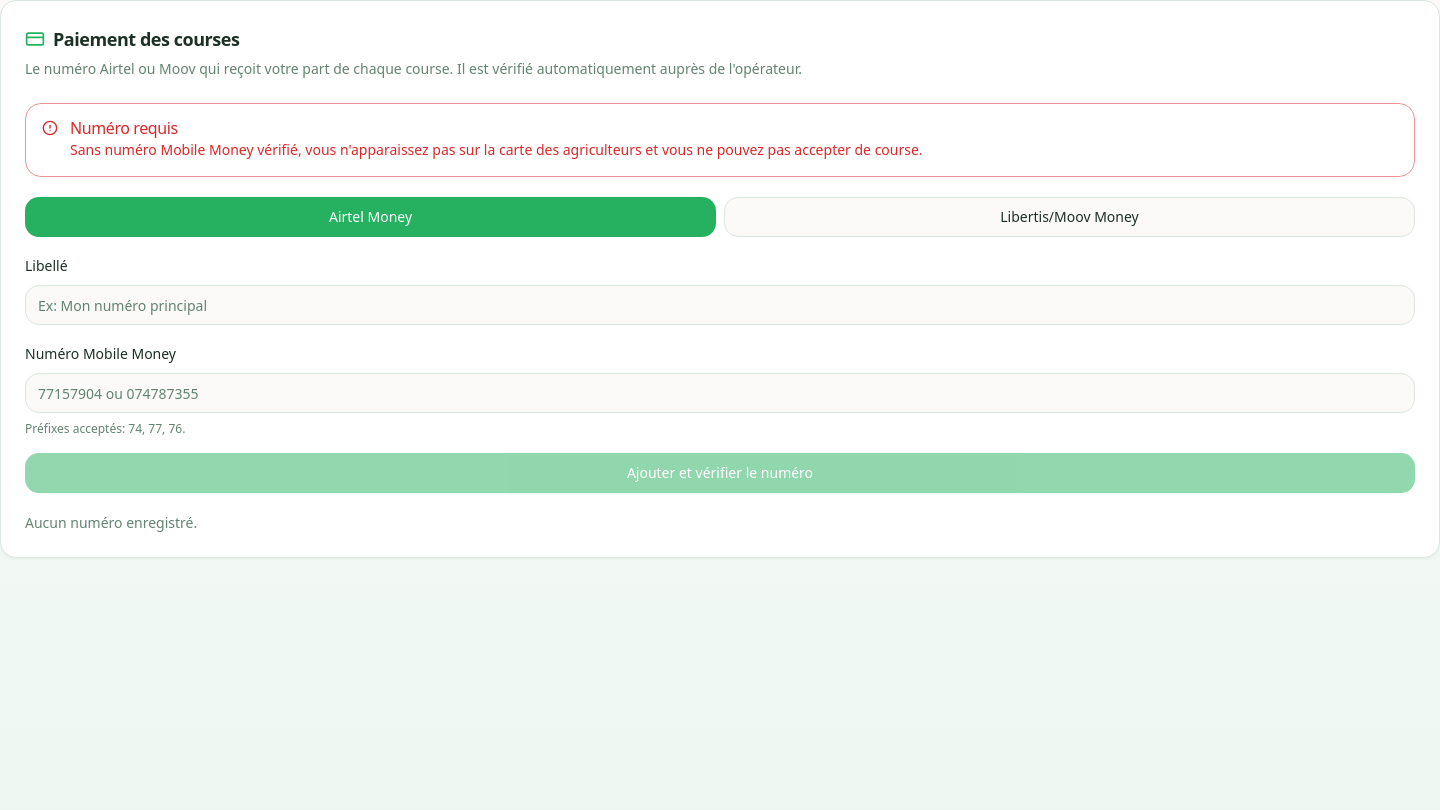
DriverPayoutAccounts › explains a number the operator could not verify
This screenshot has width=1440, height=810.
Expected: the heading "Numéro requis" is shown, x1=70 y1=117 x2=178 y2=139
Type "077123456" into the field labelled "Numéro Mobile Money" at (720, 393), box x1=25 y1=373 x2=1415 y2=413
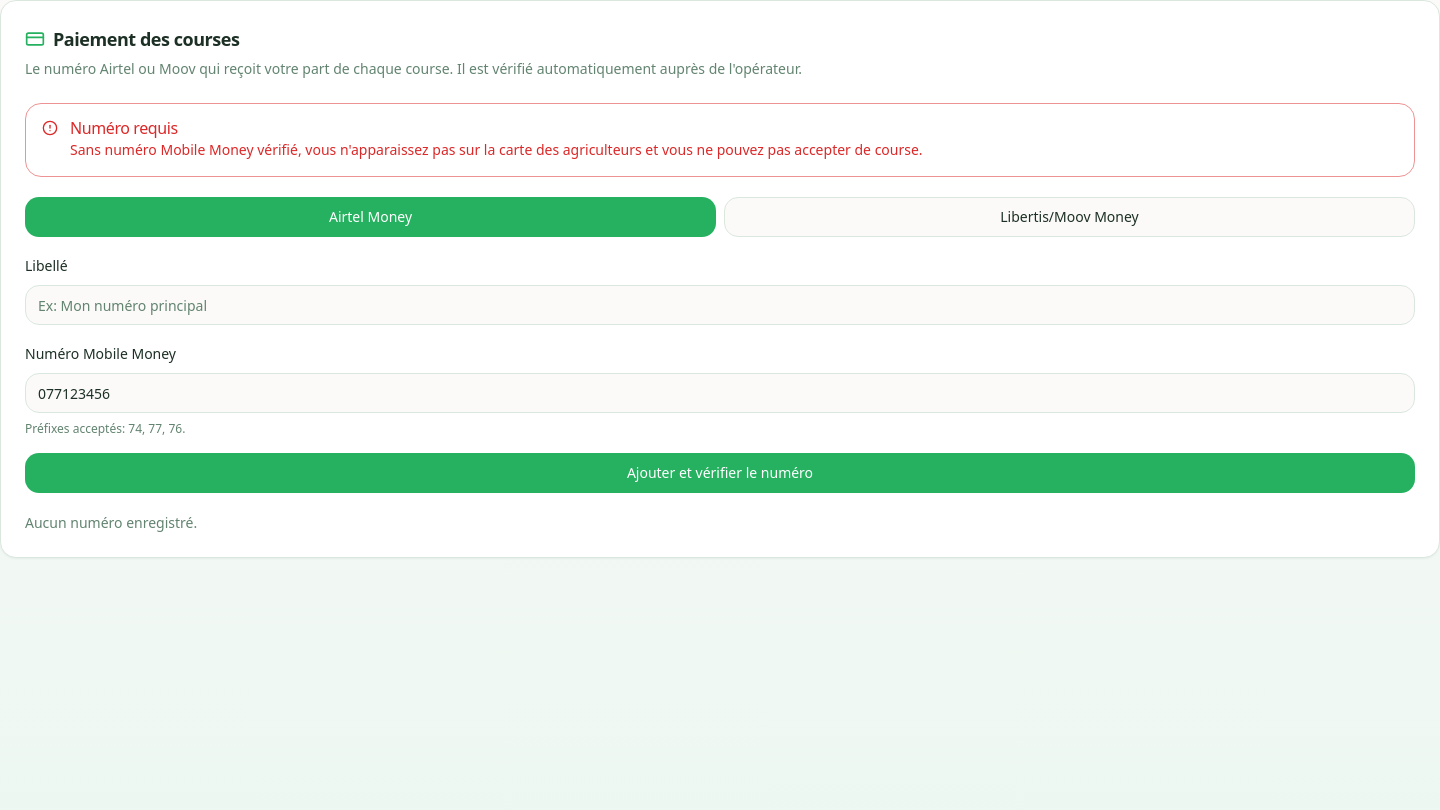
Click the button "Ajouter et vérifier le numéro" at (720, 473), box x1=25 y1=453 x2=1415 y2=493
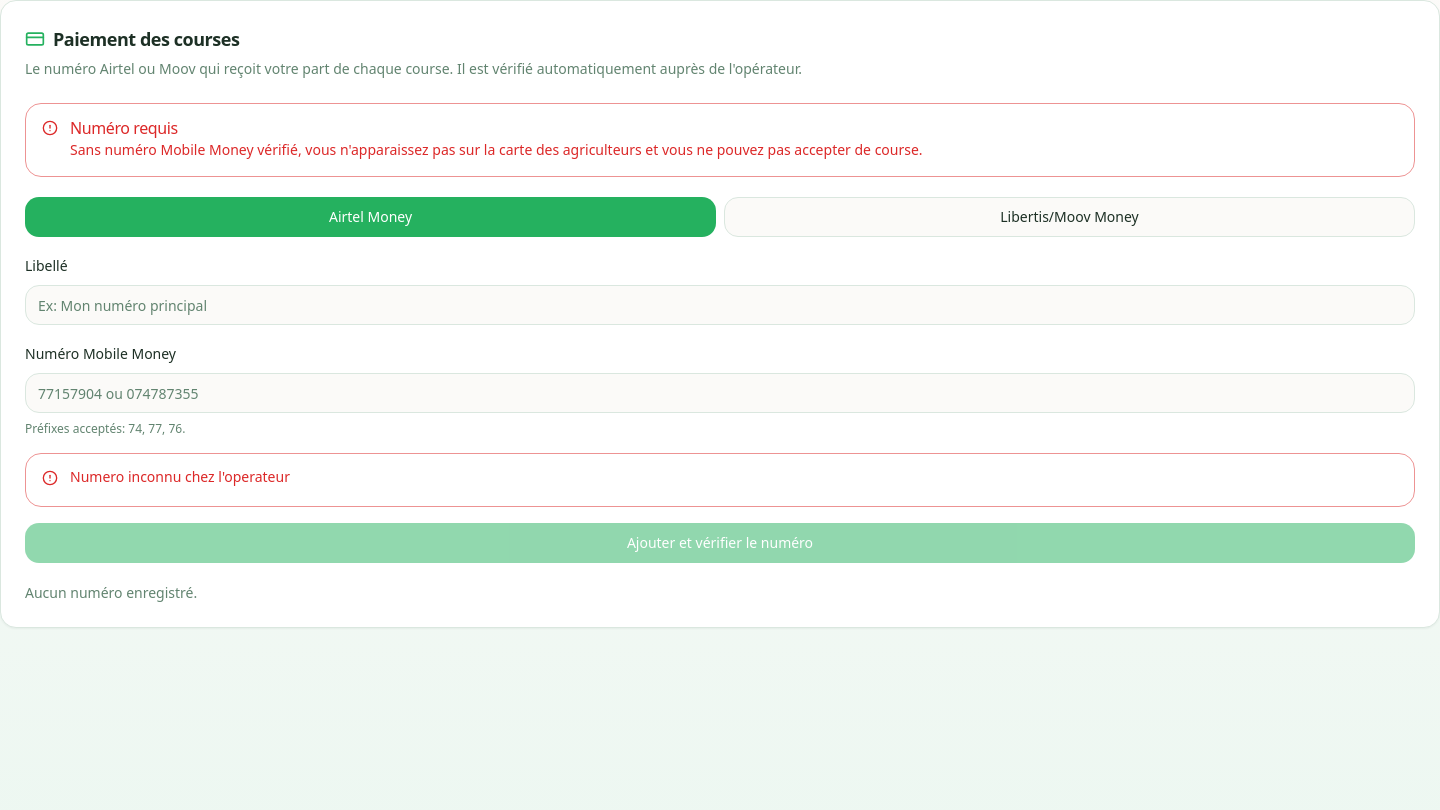
Expected: the text "Numero inconnu chez l'operateur" is shown, x1=70 y1=467 x2=290 y2=486
